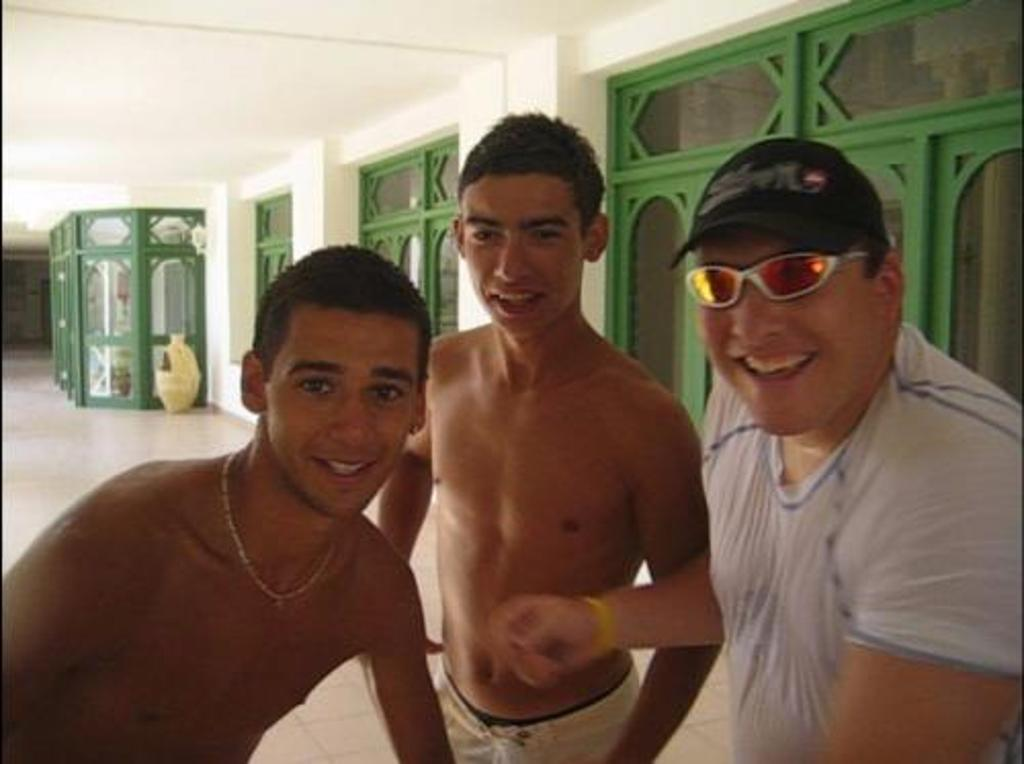face: (698, 190, 860, 430), (272, 296, 412, 512), (456, 162, 576, 336)
